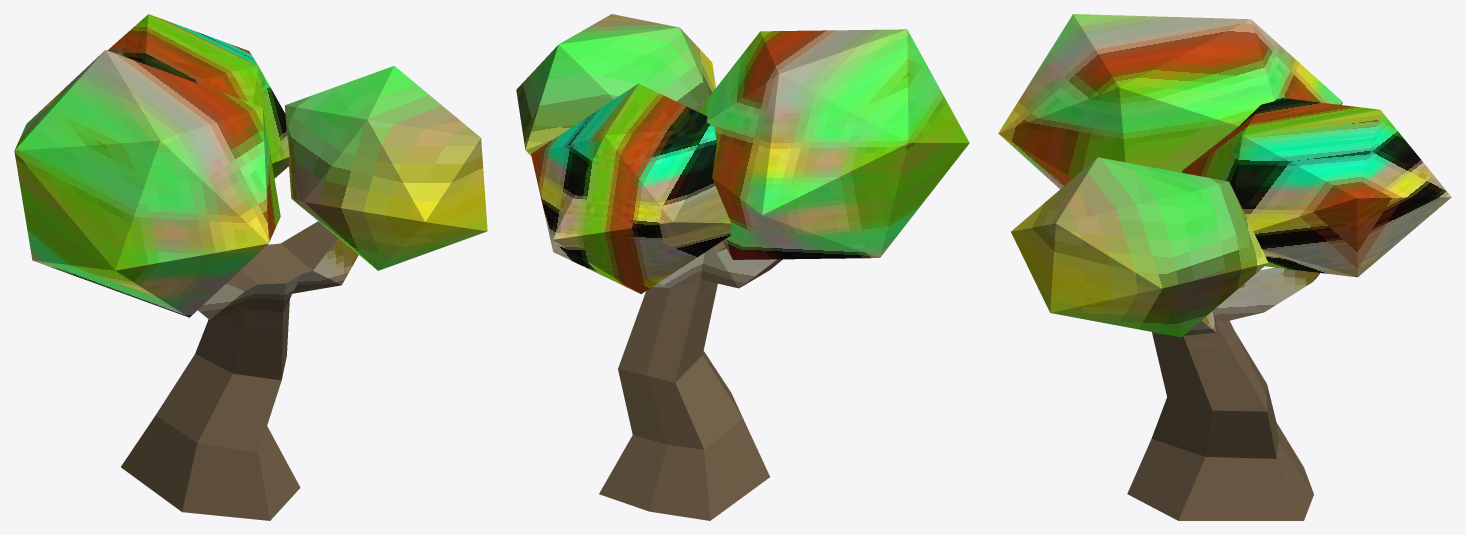
File: tree.glb
The picture shows the model from 3 angles, left to right: view 1: azimuth 30°, elevation 25°; view 2: azimuth 150°, elevation 25°; view 3: azimuth 270°, elevation 25°; orthographic projection. The views are drawn at different scales.
Visible parts, largest first — view 1: Tree; view 2: Tree; view 3: Tree.
Part boxes in pixels (x1,y1,x2,y2): Tree: (14,14,487,520); Tree: (516,14,969,520); Tree: (998,14,1451,520).
Bounding box in the file's own units: 1.96 × 1.96 × 1.88.
Materials: 1 (1 with a texture image).
